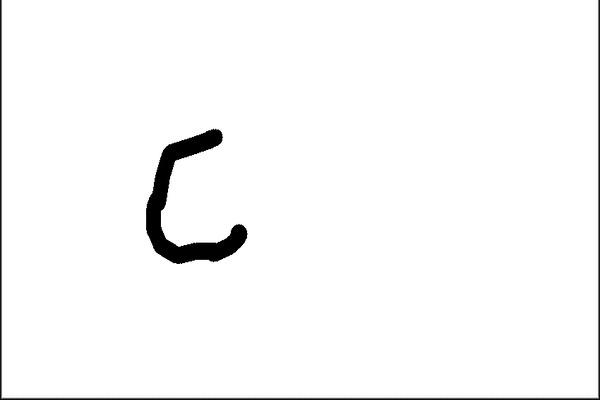C: (140, 123, 255, 266)
